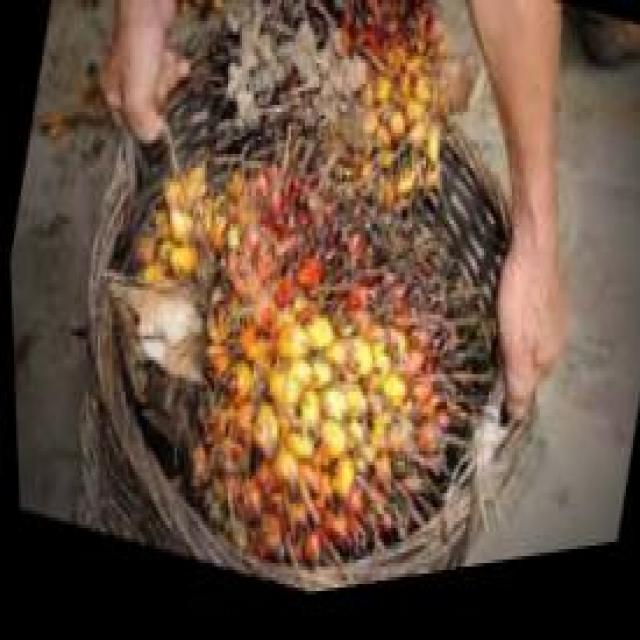Ripefruit: (99, 117, 515, 628), (186, 0, 479, 255)
